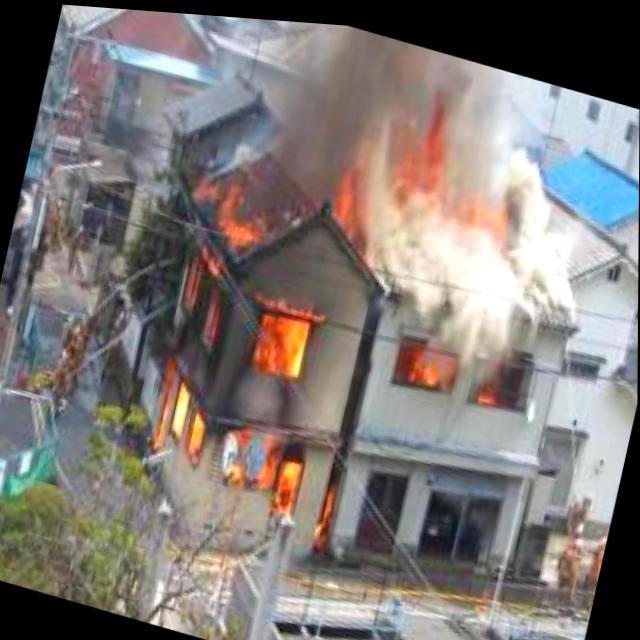fire: (128, 158, 364, 520), (397, 121, 515, 226), (400, 338, 452, 390)
